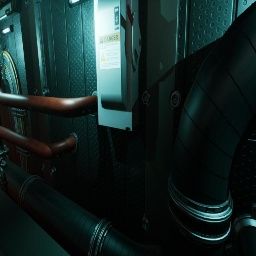SafetySwitchPanel ,: (94, 0, 141, 131)
